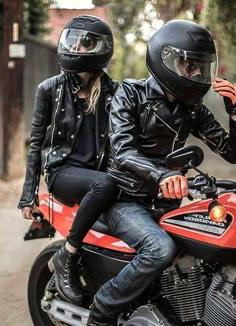With Helmet: (143, 19, 222, 102), (54, 10, 125, 74)
